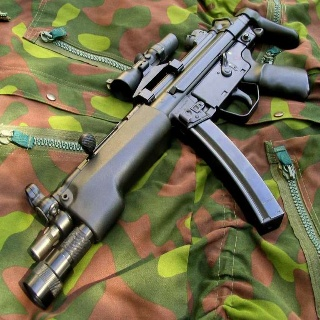rifle: (19, 7, 313, 309)
